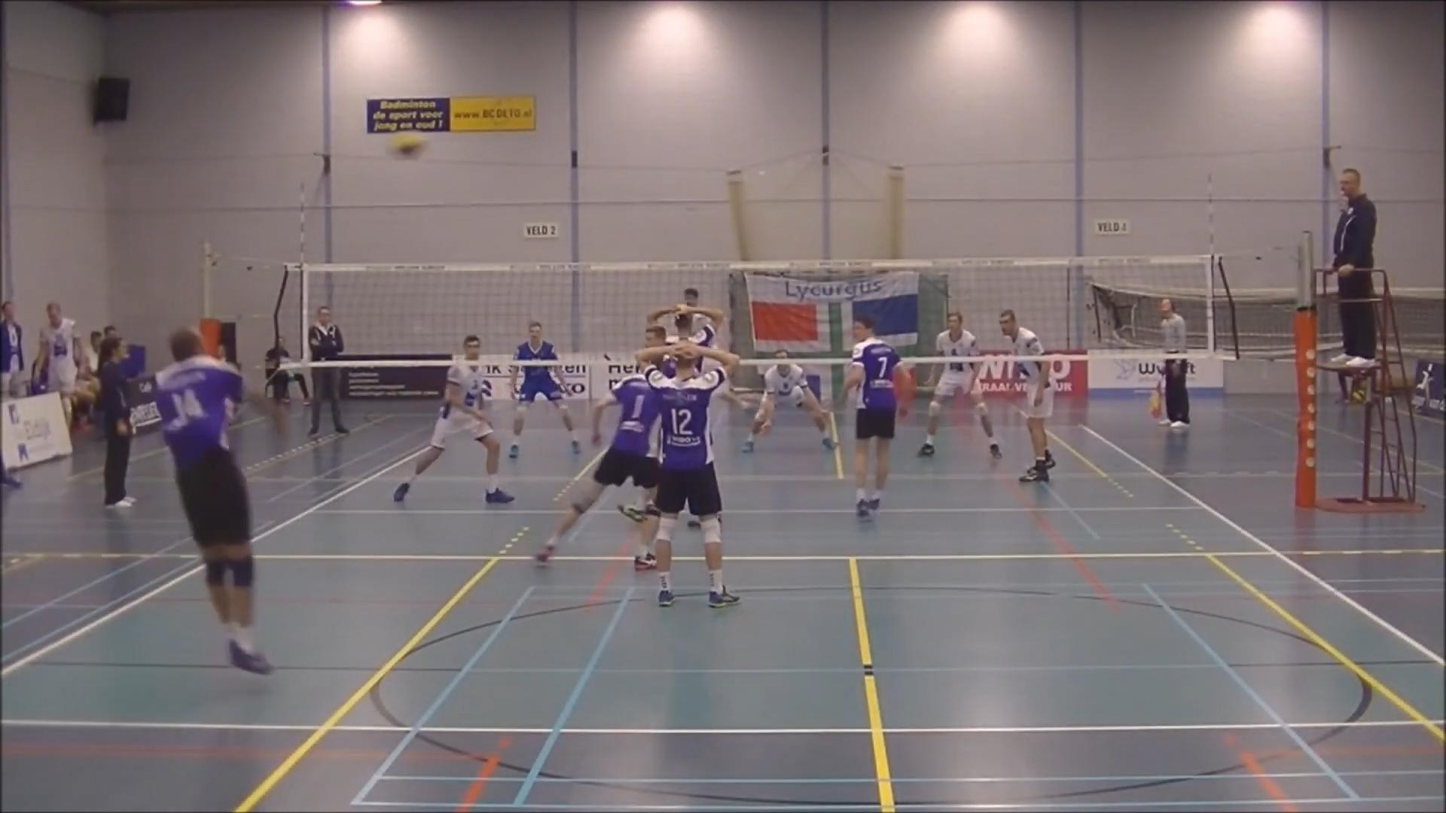battuta: (117, 319, 316, 679)
